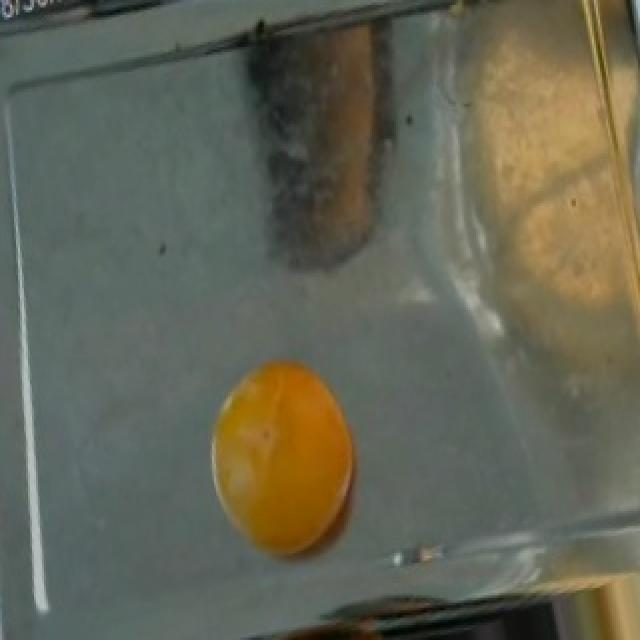Fruit: (198, 345, 366, 570), (488, 521, 640, 640), (286, 0, 522, 50)
